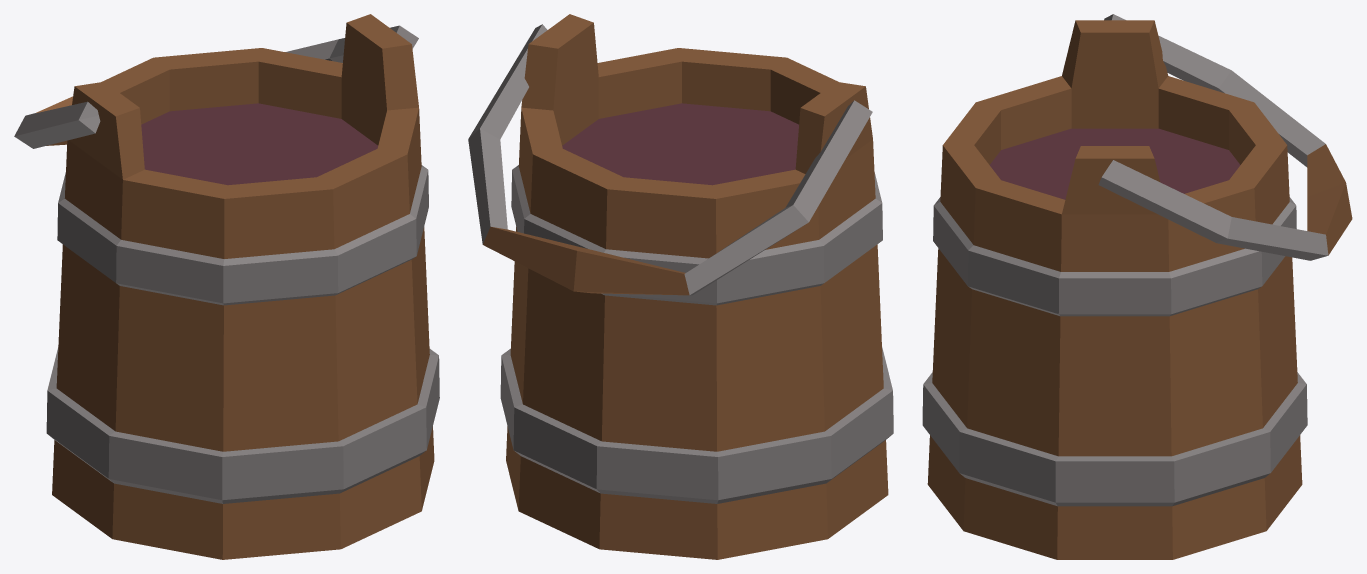
Rendered from bucket-milk.fbx.
The picture shows the model from 3 angles, left to right: view 1: azimuth 30°, elevation 25°; view 2: azimuth 150°, elevation 25°; view 3: azimuth 270°, elevation 25°; orthographic projection. The views are drawn at different scales.
Parts seen in each view (by area): view 1: bucket-milk; view 2: bucket-milk; view 3: bucket-milk.
Boxes of the visible parts, <box> form: bucket-milk: <box>14,14,439,559</box>; bucket-milk: <box>468,14,893,559</box>; bucket-milk: <box>922,14,1352,559</box>.
Size of the model in its own units: 0.332 by 0.3865 by 0.3788.
